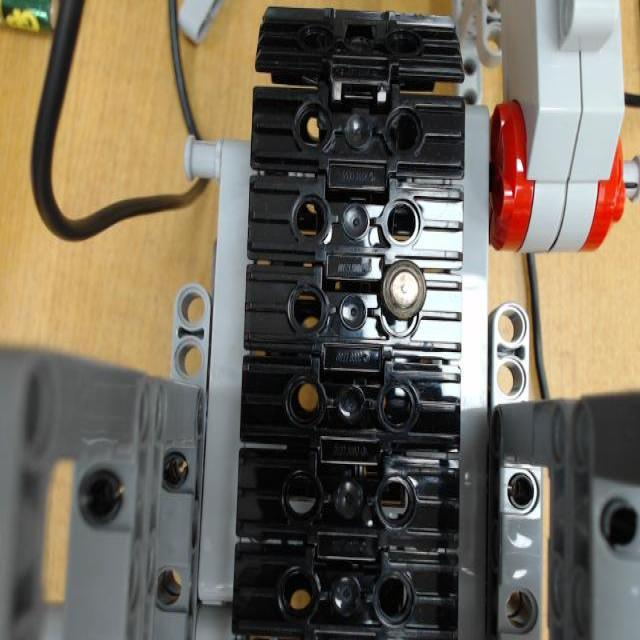COIN: (375, 257, 426, 322)
